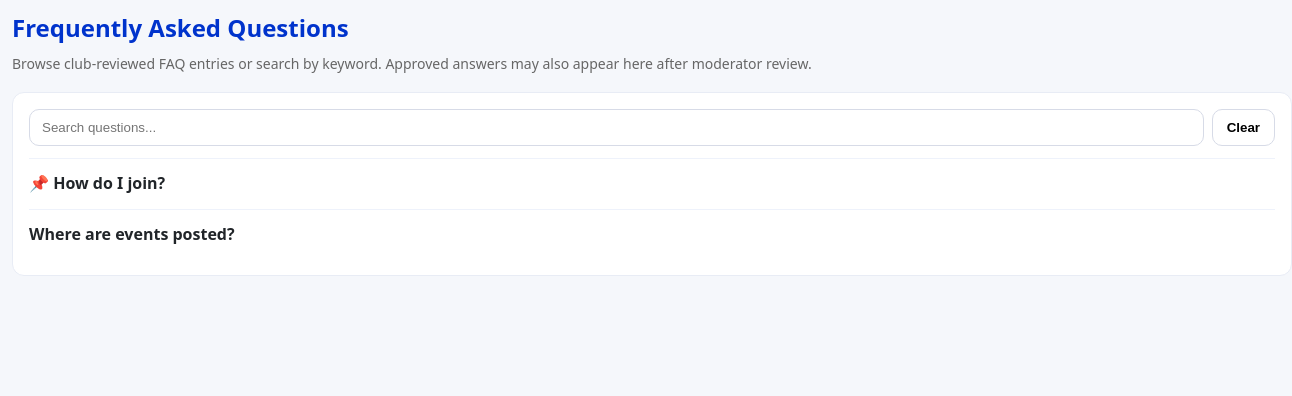
Scenario: FaqBrowse (canonical /ask FAQ surface) › allows multiple FAQ entries to stay expanded at once
Expected: the text "📌 How do I join?" is shown, [29,172,165,194]
What coordinates should you click on to do the following:
click the button "📌 How do I join?"
I would click on:
 (109, 183)
Its box is [29,158,1275,209].
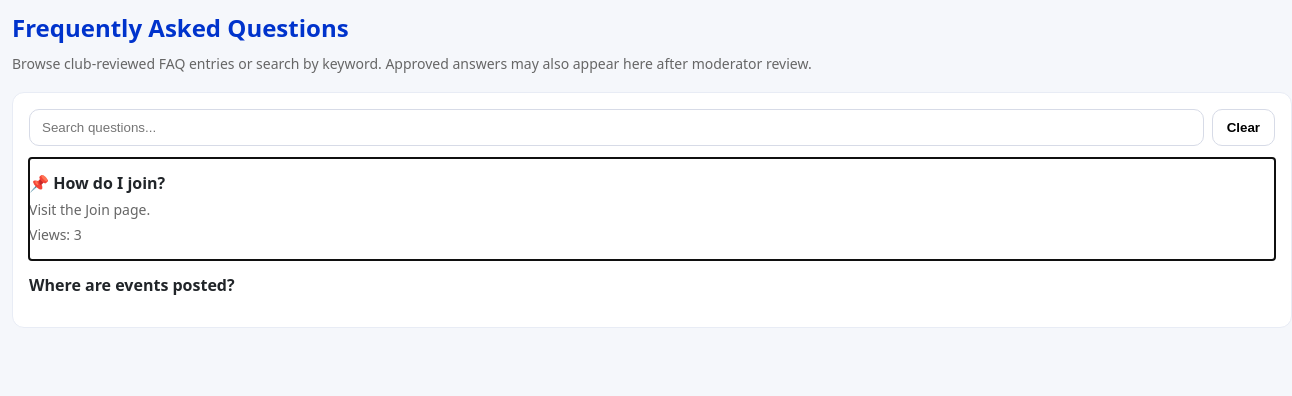
What coordinates should you click on to do the following:
click the button "Where are events posted?"
I would click on:
 (132, 285)
Its box is [29,260,1275,311].
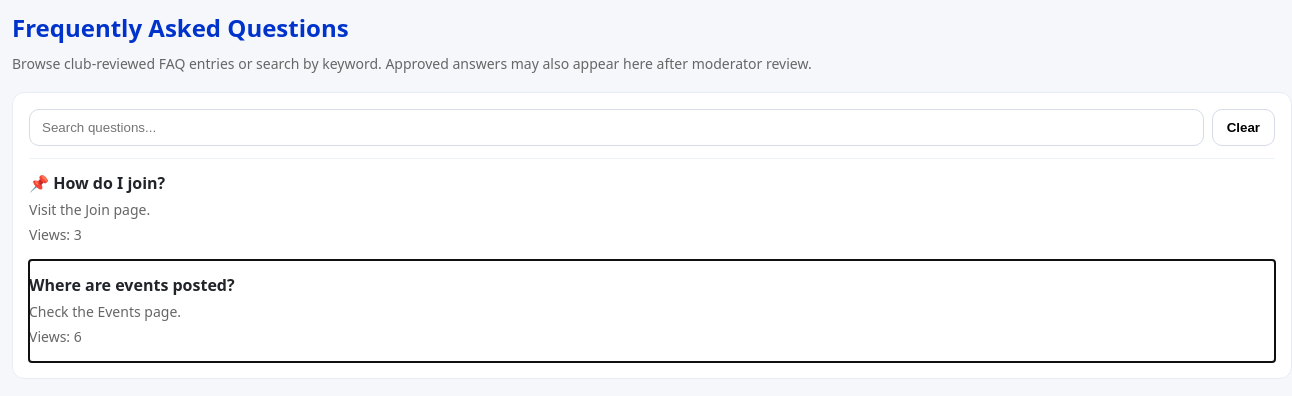
Now the text "Visit the Join page." is shown, box [29,200,150,219]
Now the button "📌 How do I join?Visit the Join page.Views: 3" is expanded, box [29,158,1275,260]
Now the text "Check the Events page." is shown, box [29,302,181,321]
